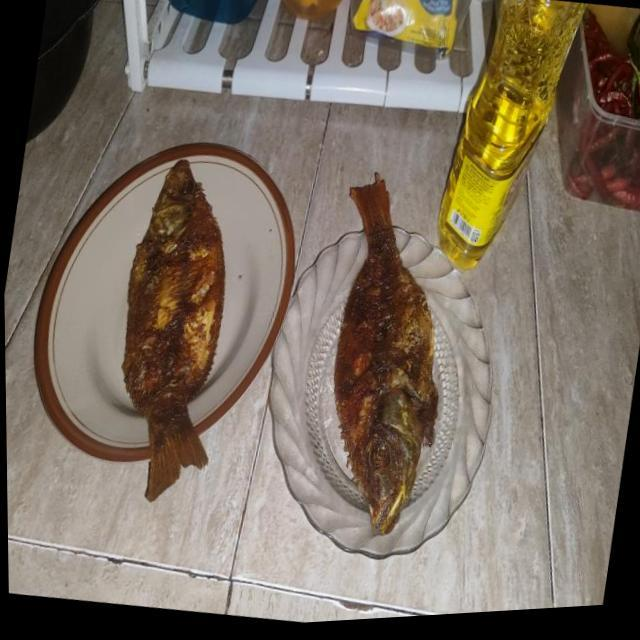ikan_mujair: (334, 172, 439, 534), (122, 160, 225, 501)
